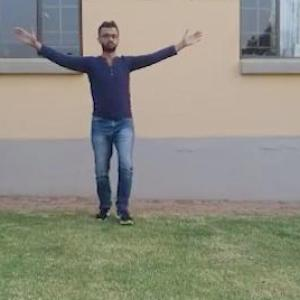takeoff: (21, 17, 203, 220)
